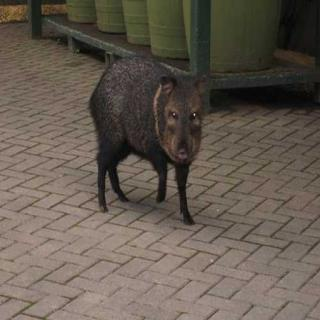Pig: (69, 26, 233, 204)
